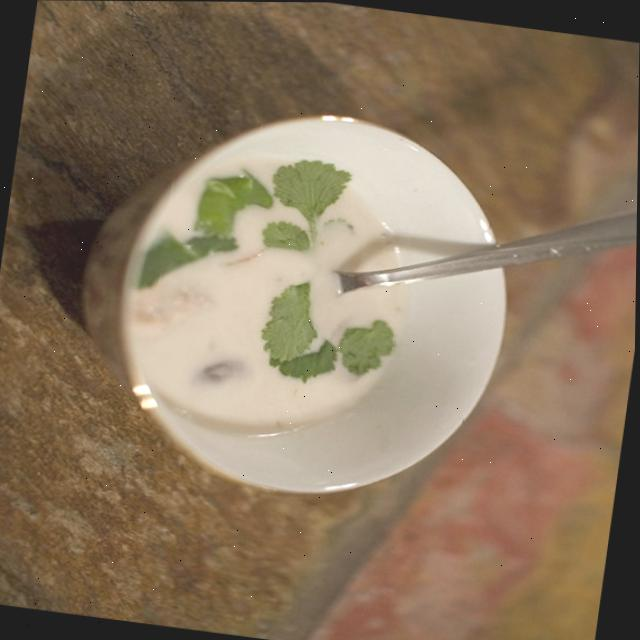汤锅炖物: (77, 71, 559, 533)
